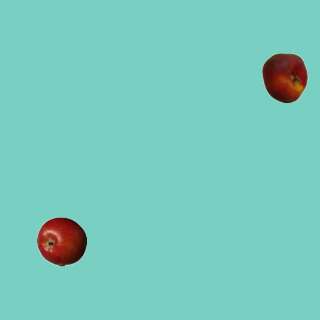Apple Braeburn: (36, 216, 86, 266)
Nectarine Flat: (259, 52, 309, 102)
